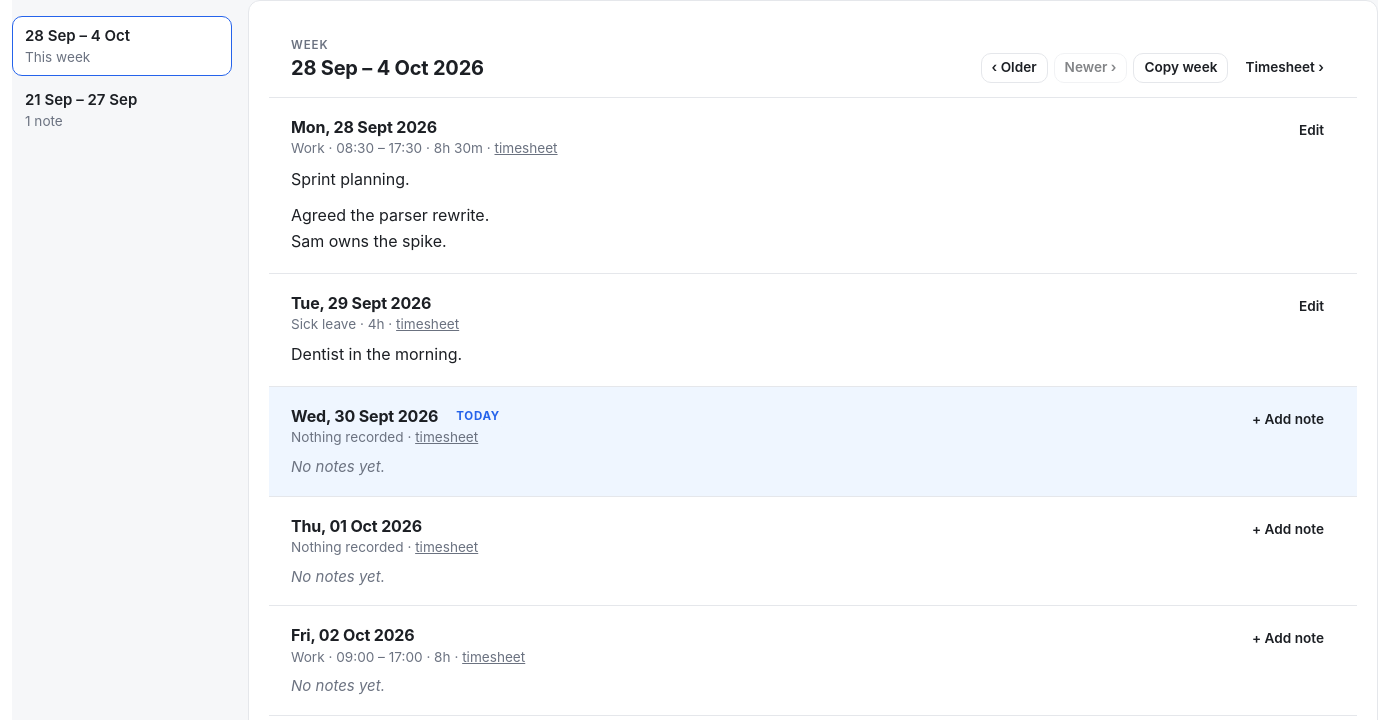
Test case: NotesPage › switches weeks from the side list and with the older and newer buttons
Click the button "21 Sep – 27 Sep 1 note": (122, 111) [12,80,232,141]
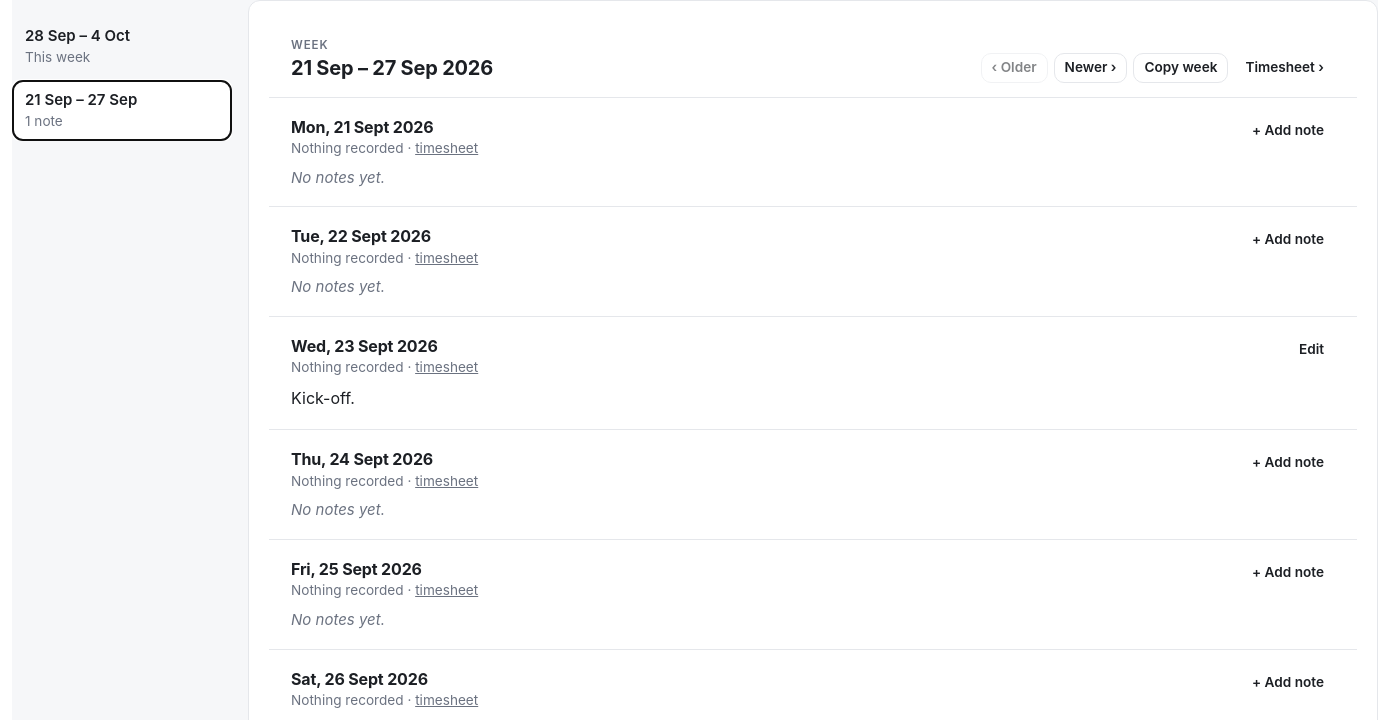
Expected: the element labelled "Wed, 23 Sept 2026" shows "Kick-off.", [291,388,355,408]
Expected: the button with aria-label "Older week" is disabled, [981,53,1048,83]
Click the button with aria-label "Newer week": (1091, 68) [1054,53,1128,83]
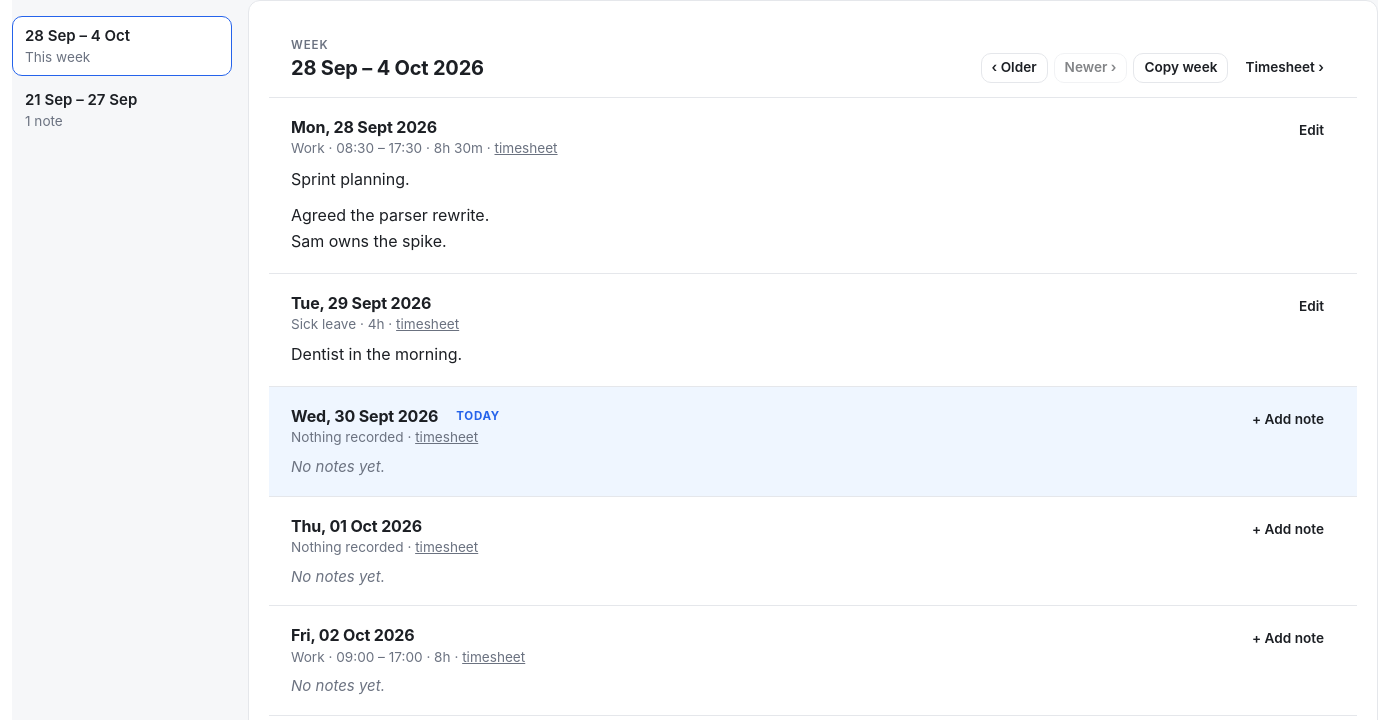
Expected: the button with aria-label "Newer week" is disabled, [1054,53,1128,83]
